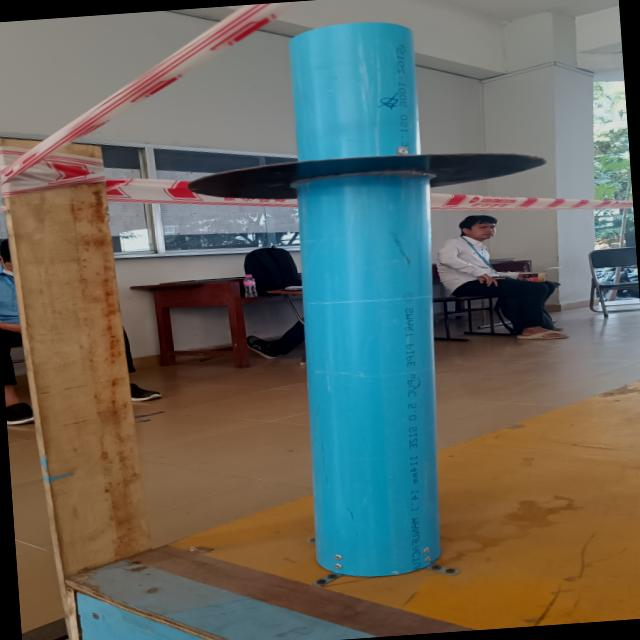pole: (164, 12, 556, 360)
